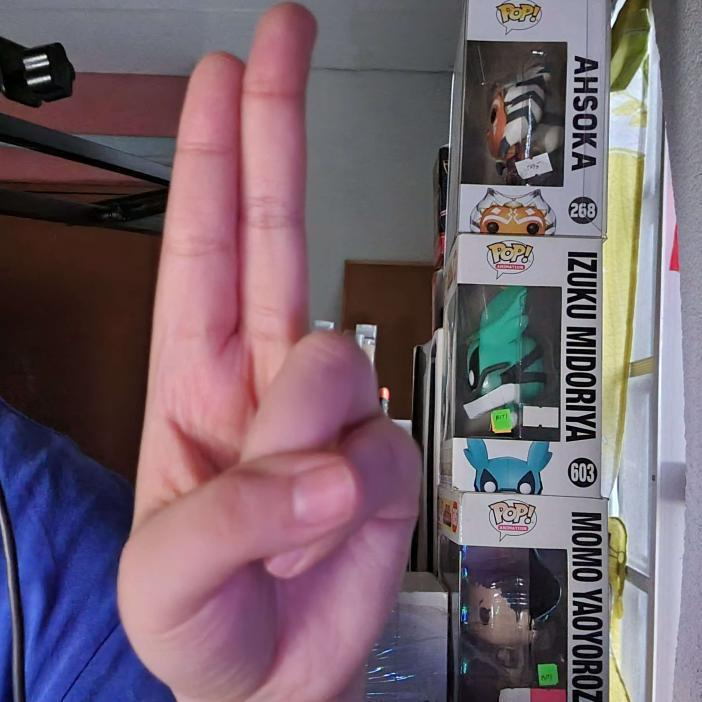u: (117, 3, 424, 702)
